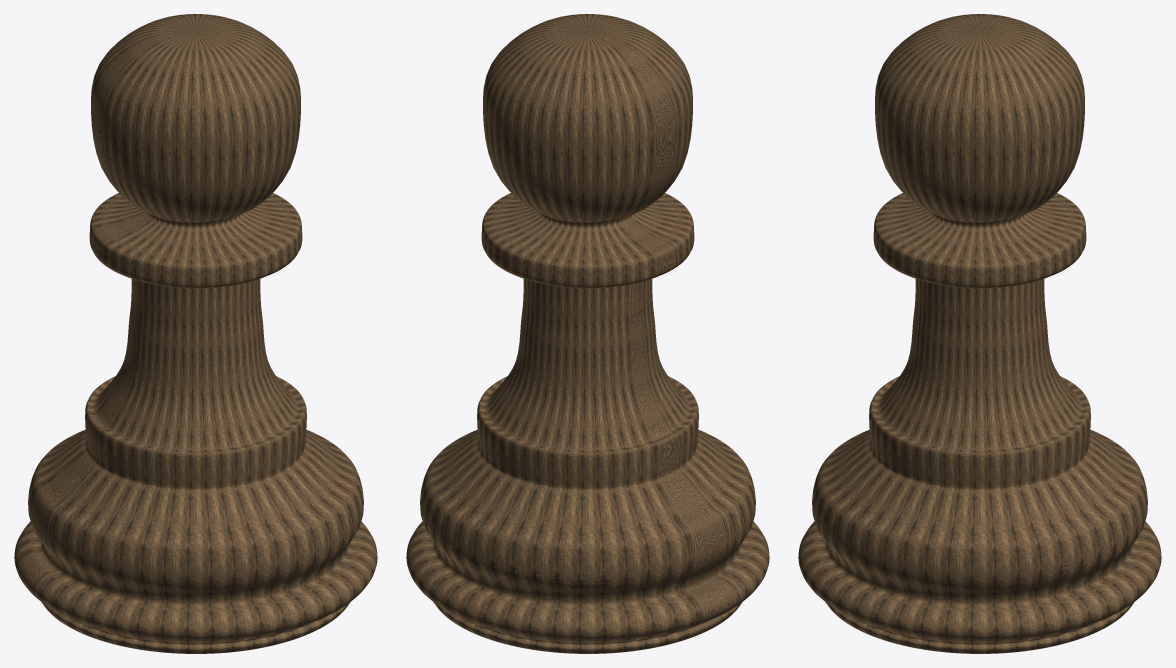
Rendered from peon_cafe_prueba.glb.
3 renders of one model, left to right at view 1: azimuth 30°, elevation 25°; view 2: azimuth 150°, elevation 25°; view 3: azimuth 270°, elevation 25°, orthographic.
Visible parts, largest first — view 1: revolvedSurface14; view 2: revolvedSurface14; view 3: revolvedSurface14.
Part boxes in pixels (box(x1,y1,x2,y2)): revolvedSurface14: box(14, 14, 377, 653); revolvedSurface14: box(406, 14, 769, 653); revolvedSurface14: box(798, 14, 1161, 653).
Size of the model in its own units: 0.5796 by 0.9851 by 0.5796.
1 material, 1 textured.
